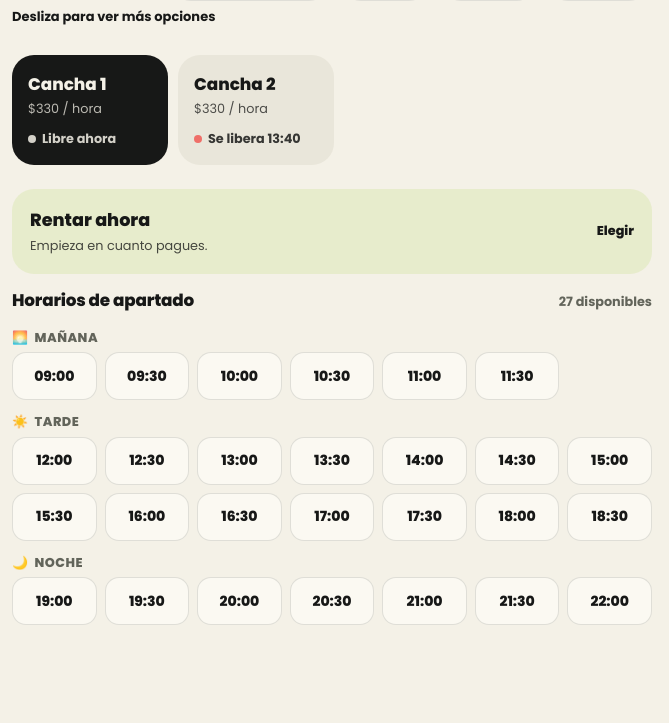
it: ReservationsScreen › si apartar falla lo dice y no abre el pago
Step 1. Click the radio button labelled "09:00" → (54, 376), box [12,352,97,400]
(page scrolled)
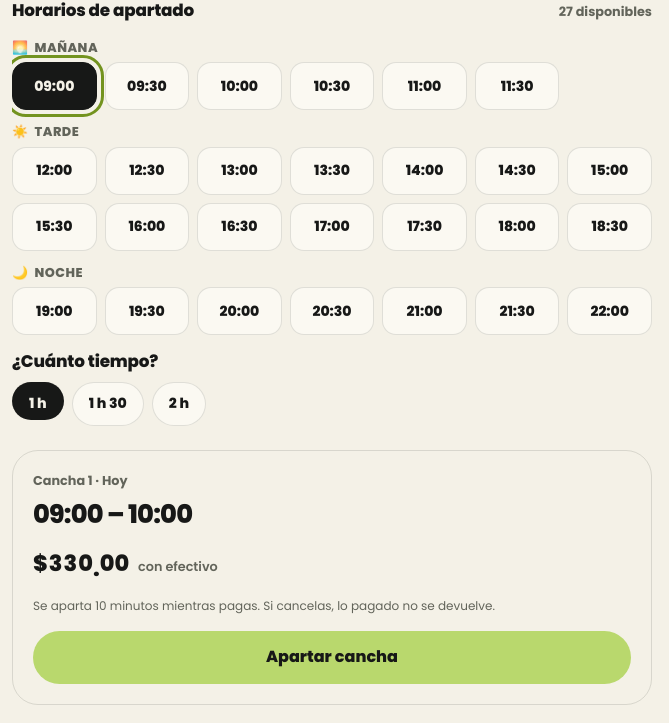
Step 2. Click the button "Apartar cancha" → (332, 683), box [33,657,631,710]
(page scrolled)
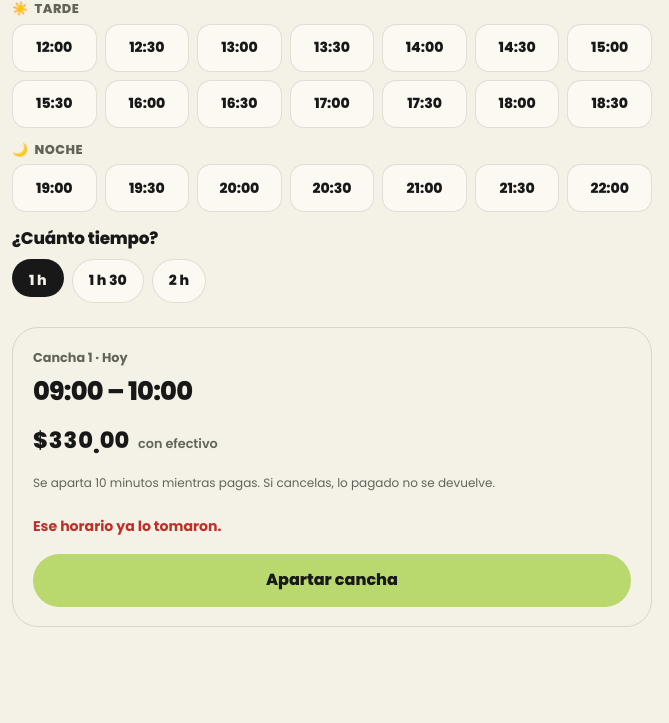
Now the text "Ese horario ya lo tomaron." is shown, box [33,516,222,536]
